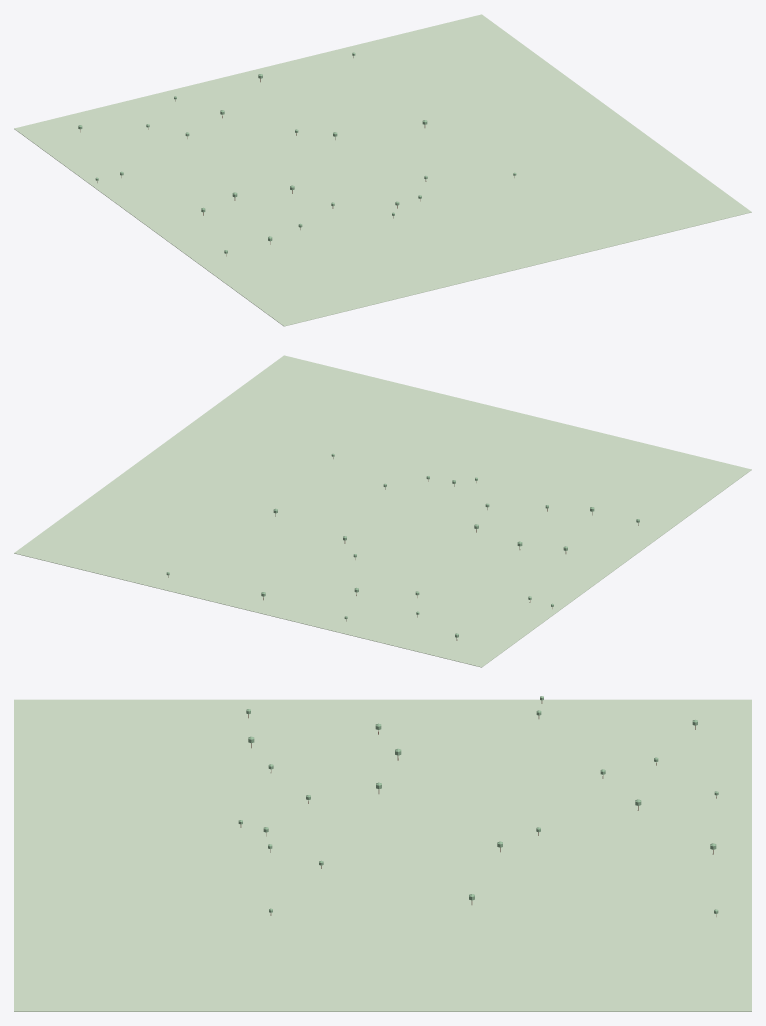
The model's file is chunk_7_7_low.glb.
3 views of the same model, one above another, from view 1: azimuth 30°, elevation 25°; view 2: azimuth 150°, elevation 25°; view 3: azimuth 270°, elevation 25° (orthographic). The views are drawn at different scales.
Parts seen in each view (by area): view 1: city_grass; view 2: city_grass; view 3: city_grass, city_foliage_dark.
Part boxes in pixels (box(x1,y1,x2,y2)): city_grass: box(14, 14, 751, 326); city_grass: box(14, 355, 751, 667); city_grass: box(14, 699, 751, 1011); city_foliage_dark: box(238, 696, 718, 913).
Size of the model in its own units: 512 by 9.47 by 512.
